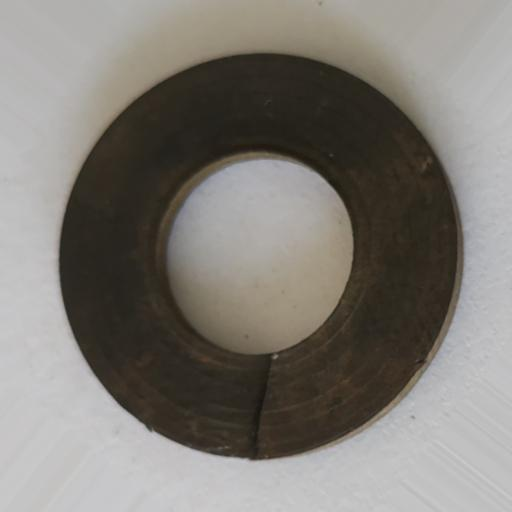defect: (247, 355, 275, 462)
